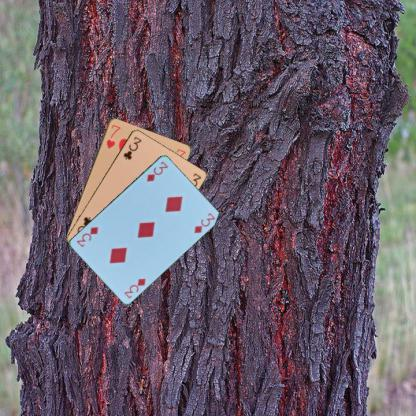3c: (120, 134, 142, 160)
3d: (144, 158, 169, 183), (122, 275, 148, 299)
7h: (103, 122, 122, 150)
